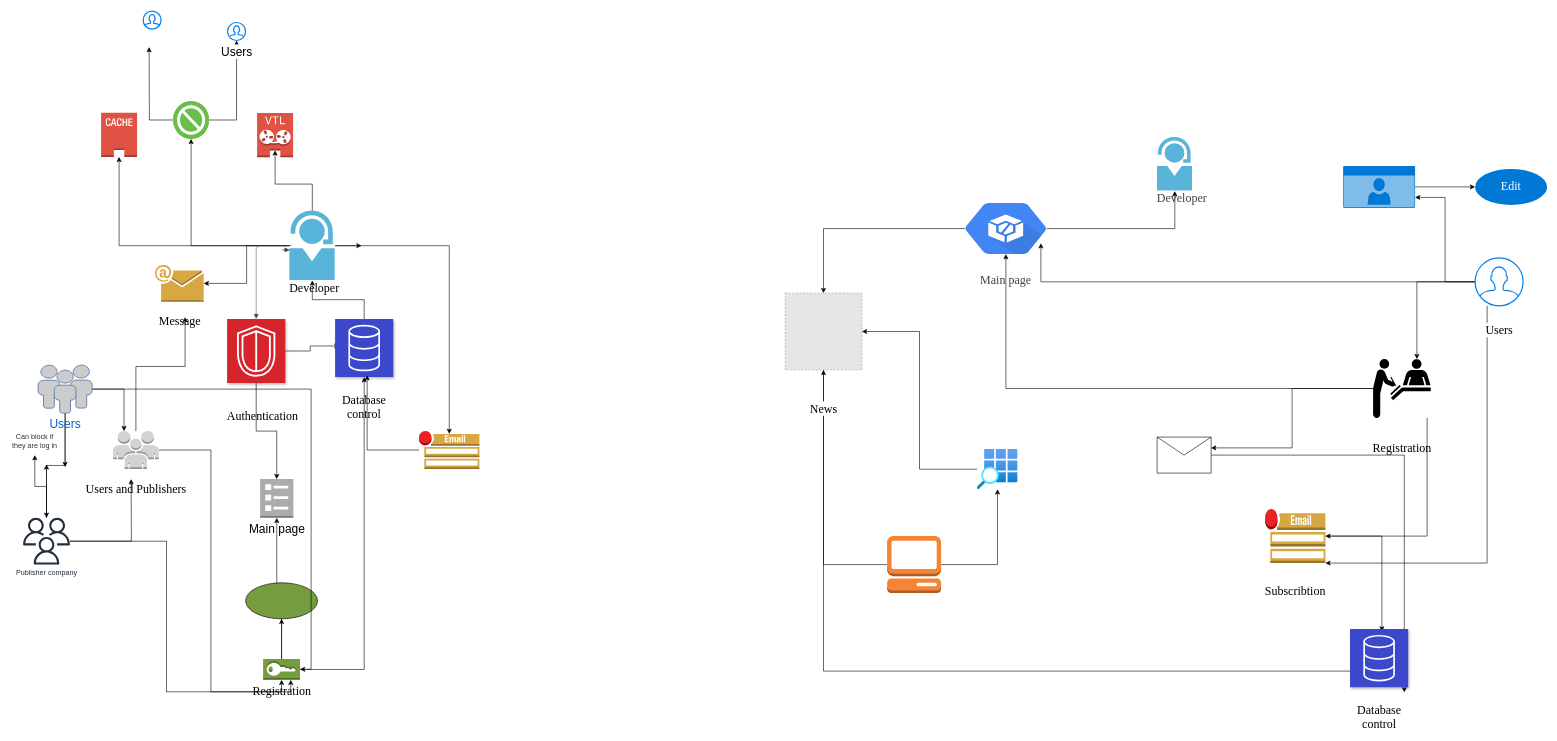
Image size: 1557x741. Some labels were removed from this diagram. Grey dashed boxes stand in for pictures. The shapes that lost their labels are listed below. From the top down, each one's centre as x and y in pixels, then its label:
(x=151, y=19): Publisher
(x=118, y=134): Deleted
(x=190, y=119): Block
(x=274, y=134): Active
(x=1379, y=187): Profile
(x=997, y=469): Searching news
(x=1183, y=454): Complain
(x=914, y=564): Filtering
(x=281, y=600): when login, Active
